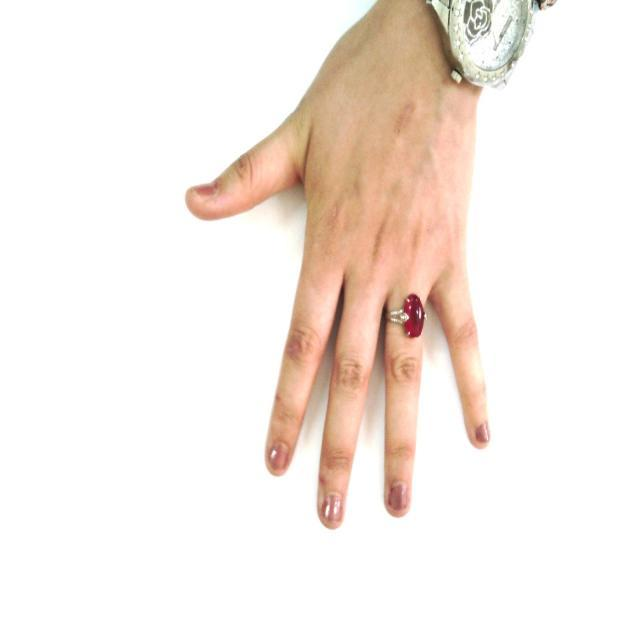Fingernail: (269, 441, 290, 473), (323, 492, 343, 525), (388, 484, 406, 511), (190, 184, 216, 199), (477, 424, 489, 443)
